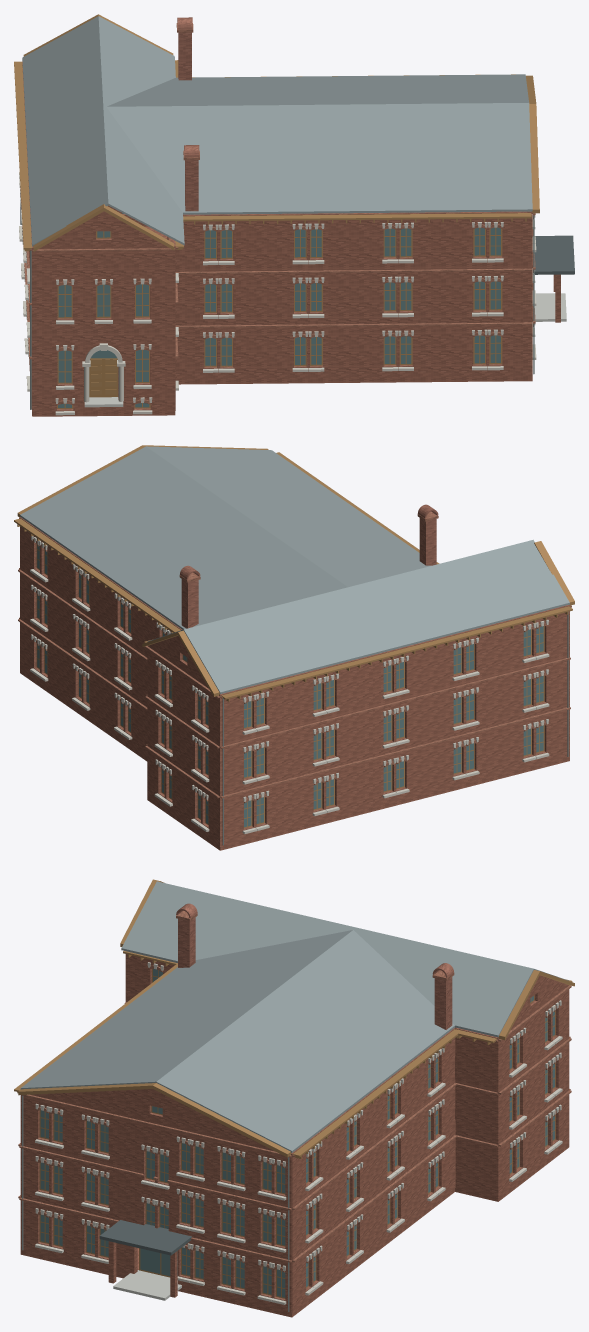
3 views of the same model, one above another, from view 1: azimuth 30°, elevation 25°; view 2: azimuth 150°, elevation 25°; view 3: azimuth 270°, elevation 25° (orthographic). The views are drawn at different scales.
Visible parts, largest first — view 1: simpson__roof, simpson__brick, simpson__glass, simpson__wood, simpson__stone, simpson__frame, simpson__lintel-brick, simpson__chimney, simpson__canopy, simpson__threshold-entry, simpson__door, simpson__pipe; view 2: simpson__roof, simpson__brick, simpson__glass, simpson__stone, simpson__wood, simpson__lintel-brick, simpson__frame, simpson__chimney, simpson__pipe; view 3: simpson__brick, simpson__roof, simpson__glass, simpson__stone, simpson__lintel-brick, simpson__frame, simpson__wood, simpson__chimney, simpson__canopy, simpson__threshold-entry, simpson__pipe.
Boxes of the visible parts, x1=… form: simpson__roof: x1=22, y1=16, x2=532, y2=246; simpson__brick: x1=22, y1=61, x2=560, y2=416; simpson__glass: x1=58, y1=213, x2=500, y2=407; simpson__wood: x1=14, y1=14, x2=539, y2=394; simpson__stone: x1=19, y1=172, x2=536, y2=415; simpson__frame: x1=57, y1=227, x2=502, y2=408; simpson__lintel-brick: x1=20, y1=23, x2=535, y2=405; simpson__chimney: x1=177, y1=17, x2=199, y2=211; simpson__canopy: x1=534, y1=235, x2=574, y2=274; simpson__threshold-entry: x1=84, y1=293, x2=566, y2=407; simpson__door: x1=89, y1=358, x2=117, y2=397; simpson__pipe: x1=20, y1=204, x2=534, y2=409; simpson__roof: x1=20, y1=446, x2=569, y2=694; simpson__brick: x1=20, y1=517, x2=569, y2=850; simpson__glass: x1=37, y1=545, x2=543, y2=827; simpson__stone: x1=30, y1=536, x2=549, y2=834; simpson__wood: x1=14, y1=445, x2=574, y2=701; simpson__lintel-brick: x1=18, y1=511, x2=571, y2=803; simpson__frame: x1=36, y1=544, x2=544, y2=828; simpson__chimney: x1=180, y1=504, x2=438, y2=628; simpson__pipe: x1=222, y1=612, x2=568, y2=845; simpson__brick: x1=20, y1=954, x2=569, y2=1317; simpson__roof: x1=20, y1=881, x2=568, y2=1152; simpson__glass: x1=40, y1=969, x2=554, y2=1297; simpson__stone: x1=35, y1=962, x2=562, y2=1304; simpson__lintel-brick: x1=18, y1=910, x2=571, y2=1272; simpson__frame: x1=39, y1=969, x2=555, y2=1298; simpson__wood: x1=14, y1=879, x2=574, y2=1158; simpson__chimney: x1=176, y1=903, x2=453, y2=1029; simpson__canopy: x1=99, y1=1220, x2=191, y2=1255; simpson__threshold-entry: x1=113, y1=1270, x2=181, y2=1300; simpson__pipe: x1=22, y1=1095, x2=289, y2=1311.
Size of the model in its own units: 39.96 by 16.13 by 36.04.
Materials: 12 (3 with a texture image).
